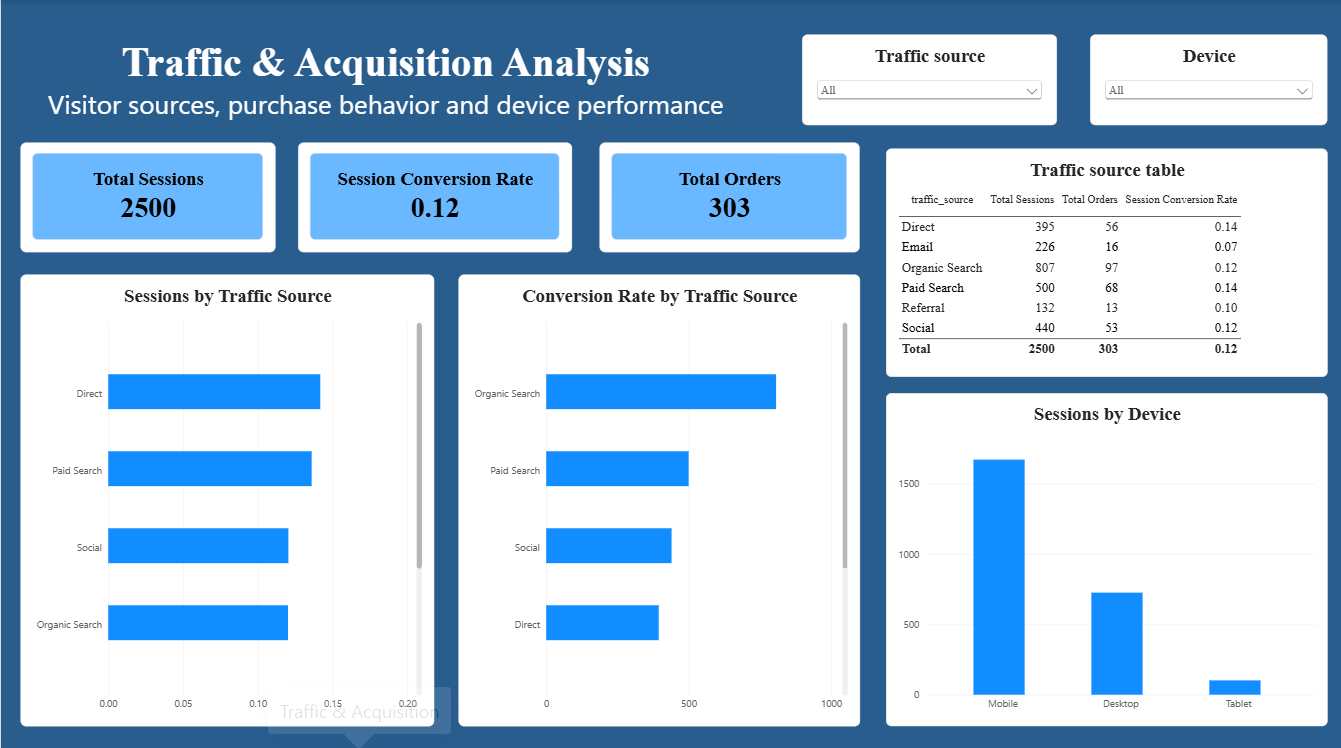

The dashboard page shown, as its layout file describes it:
{"tool":"powerbi","page":{"name":"Traffic & Acquisition","canvas":[1920,1080],"ordinal":1},"visuals":[{"type":"textbox","box":[0,0,1102.5,227.5],"z":0},{"type":"cardVisual","fields":{"Data":["customers_cleaned.Total Sessions"]},"box":[27.5,205,365,157.5],"z":1000},{"type":"cardVisual","fields":{"Data":["customers_cleaned.Total Orders"]},"box":[857.5,205,372.5,157.5],"z":2000},{"type":"cardVisual","fields":{"Data":["customers_cleaned.Session Conversion Rate"]},"box":[425,205,392.5,157.5],"z":3000},{"type":"clusteredBarChart","title":"Conversion Rate by Traffic Source","fields":{"Category":["sessions_cleaned.traffic_source"],"Y":["customers_cleaned.Total Sessions"]},"box":[655,392.5,575,647.5],"z":4000},{"type":"clusteredBarChart","title":"Sessions by Traffic Source","fields":{"Category":["sessions_cleaned.traffic_source"],"Y":["customers_cleaned.Session Conversion Rate"]},"box":[27.5,392.5,592.5,647.5],"z":5000},{"type":"clusteredColumnChart","title":"Sessions by Device","fields":{"Category":["sessions_cleaned.device"],"Y":["customers_cleaned.Total Sessions"]},"box":[1267.5,562.5,632.5,477.5],"z":6000},{"type":"tableEx","title":"Traffic source table","fields":{"Values":["sessions_cleaned.traffic_source","customers_cleaned.Total Sessions","customers_cleaned.Total Orders","customers_cleaned.Session Conversion Rate"]},"box":[1267.5,212.5,632.5,327.5],"z":7000},{"type":"slicer","title":"Device","fields":{"Values":["sessions_cleaned.device"]},"box":[1560,50,340,130],"z":8000},{"type":"slicer","title":"Traffic source","fields":{"Values":["sessions_cleaned.traffic_source"]},"box":[1147.5,50,365,130],"z":9000}]}

Visuals, with their boxes in screenshot pixels (x1, y1, x2, y2), scaled from the page's 1920x1080 canvas onto the 1341x748 screenshot:
textbox: left=0, top=0, right=770, bottom=158
cardVisual - customers_cleaned.Total Sessions: left=19, top=142, right=274, bottom=251
cardVisual - customers_cleaned.Total Orders: left=599, top=142, right=859, bottom=251
cardVisual - customers_cleaned.Session Conversion Rate: left=297, top=142, right=571, bottom=251
"Conversion Rate by Traffic Source" clusteredBarChart: left=457, top=272, right=859, bottom=720
"Sessions by Traffic Source" clusteredBarChart: left=19, top=272, right=433, bottom=720
"Sessions by Device" clusteredColumnChart: left=885, top=390, right=1327, bottom=720
"Traffic source table" tableEx: left=885, top=147, right=1327, bottom=374
"Device" slicer: left=1090, top=35, right=1327, bottom=125
"Traffic source" slicer: left=801, top=35, right=1056, bottom=125
